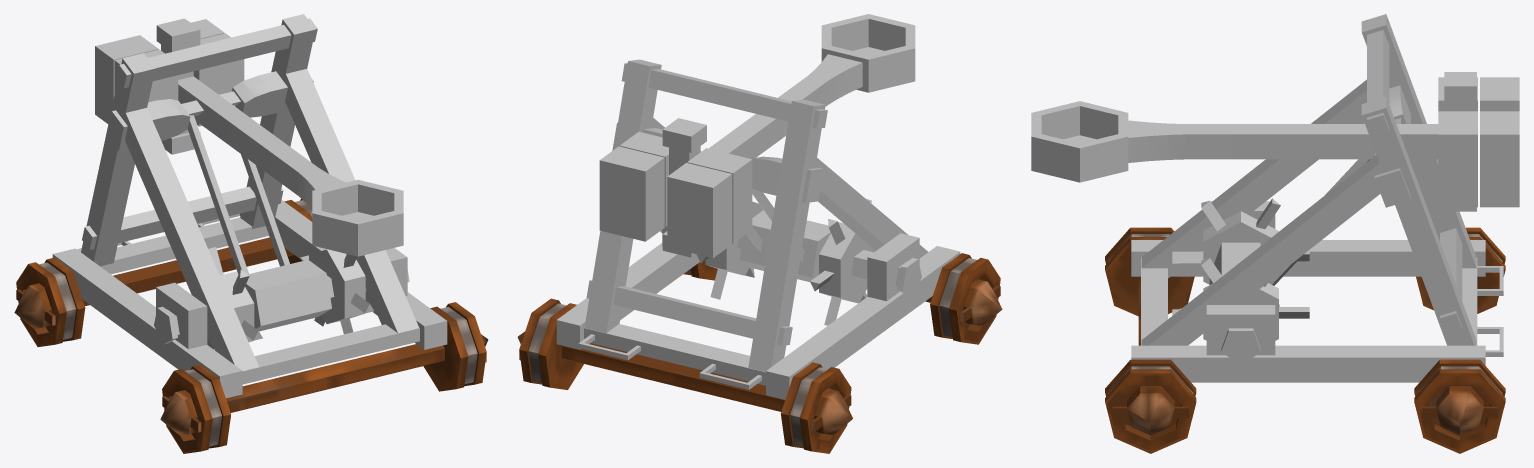
Rendered from CATAPULT_Weapon_X_DAE.dae.
The picture shows the model from 3 angles, left to right: view 1: azimuth 30°, elevation 25°; view 2: azimuth 150°, elevation 25°; view 3: azimuth 270°, elevation 25°; orthographic projection. The views are drawn at different scales.
Visible parts, largest first — view 1: HULL, SWING, B_WHEELS, LEVERS, F_WHEELS, ROPES; view 2: HULL, SWING, F_WHEELS, LEVERS, B_WHEELS, ROPES; view 3: HULL, SWING, B_WHEELS, F_WHEELS, LEVERS.
Boxes of the visible parts, left/top/right/bottom form: HULL: left=52, top=14, right=447, bottom=398; SWING: left=95, top=18, right=403, bottom=256; B_WHEELS: left=160, top=302, right=488, bottom=453; LEVERS: left=154, top=247, right=409, bottom=350; F_WHEELS: left=14, top=198, right=312, bottom=346; ROPES: left=187, top=105, right=289, bottom=274; HULL: left=556, top=59, right=960, bottom=399; SWING: left=599, top=14, right=915, bottom=257; F_WHEELS: left=517, top=298, right=852, bottom=453; LEVERS: left=660, top=199, right=921, bottom=325; B_WHEELS: left=683, top=253, right=1002, bottom=344; ROPES: left=746, top=188, right=804, bottom=262; HULL: left=1131, top=14, right=1503, bottom=382; SWING: left=1031, top=72, right=1519, bottom=211; B_WHEELS: left=1105, top=227, right=1196, bottom=453; F_WHEELS: left=1414, top=227, right=1505, bottom=453; LEVERS: left=1172, top=198, right=1309, bottom=364.
Size of the model in its own units: 4.59 by 4.04 by 5.58.
